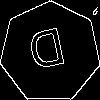D: (25, 27, 70, 79)
